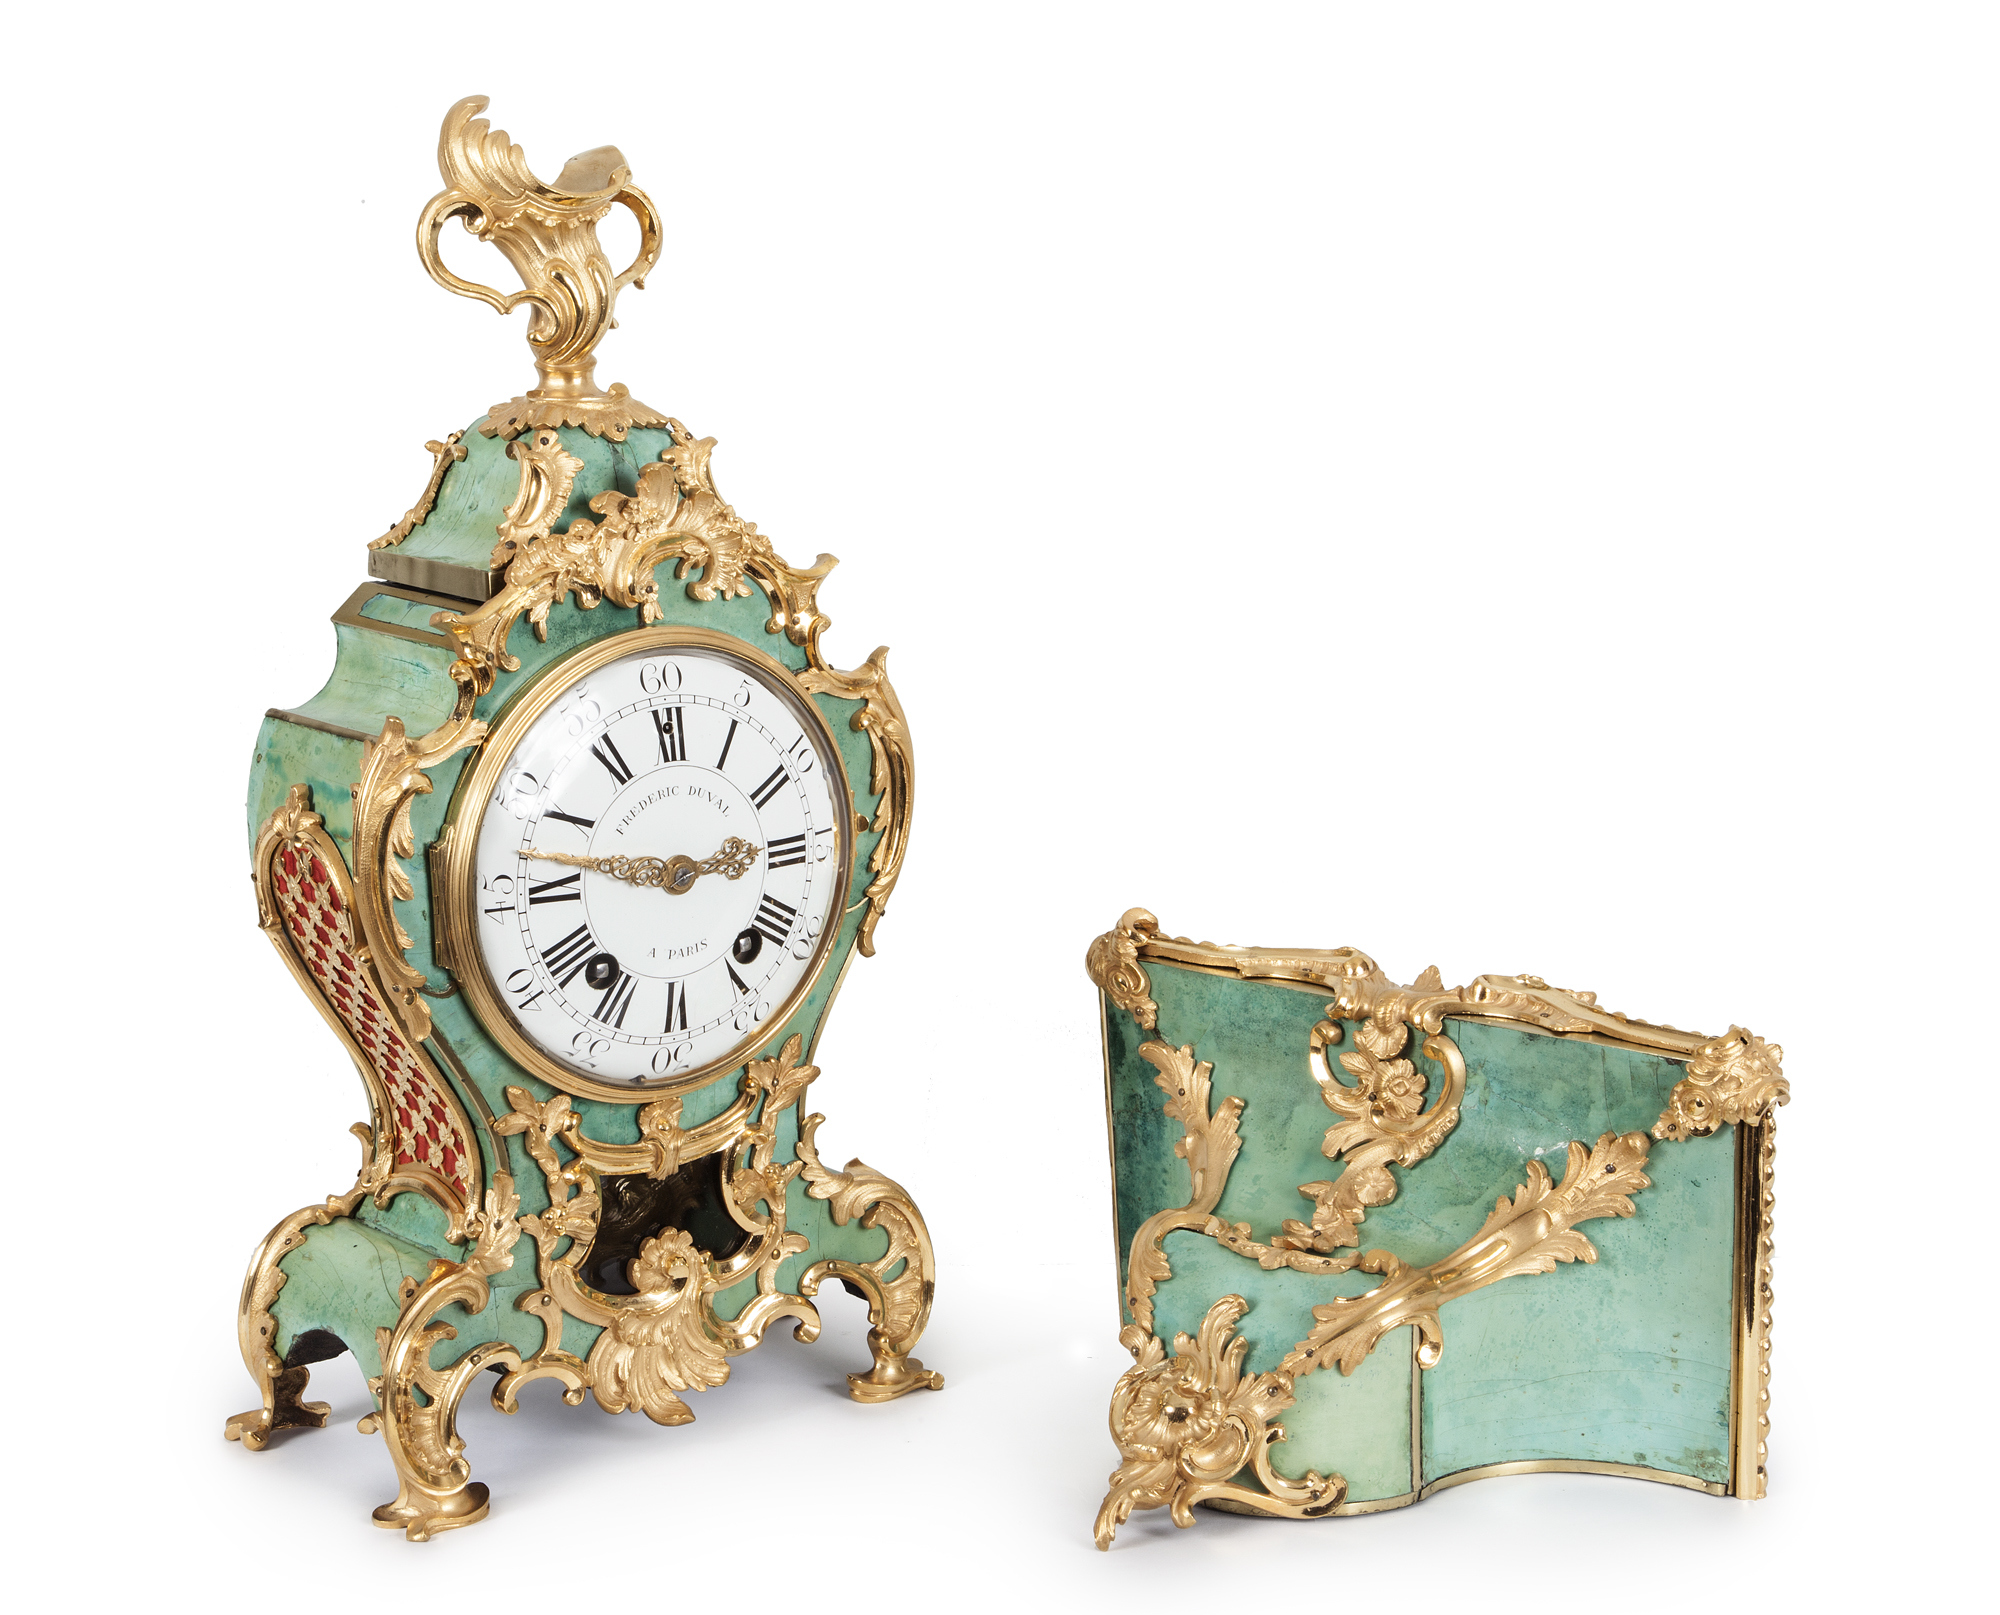clock: (474, 641, 855, 1096)
